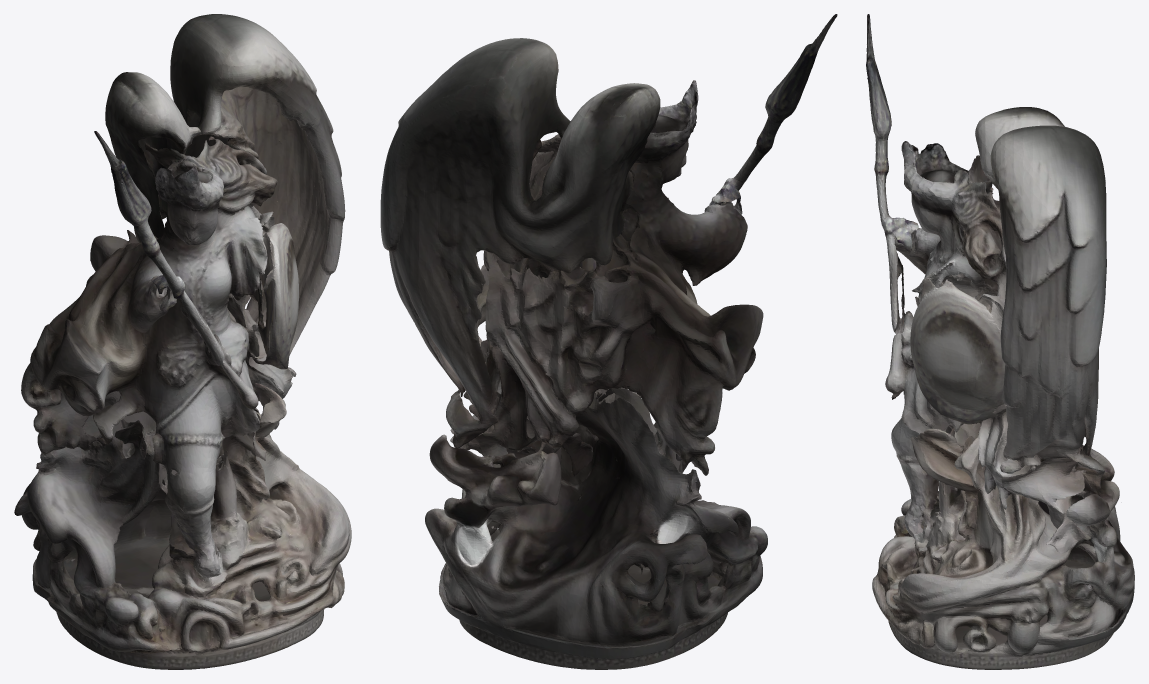
3 renders of one model, left to right at view 1: azimuth 30°, elevation 25°; view 2: azimuth 150°, elevation 25°; view 3: azimuth 270°, elevation 25°, orthographic. The views are drawn at different scales.
Visible parts, largest first — view 1: 0, 1, 2, 3, 4; view 2: 0, 2, 1, 4; view 3: 0, 2, 1, 3, 4.
Part boxes in pixels (x1=…): 0: x1=14, y1=383, x2=351, y2=669; 1: x1=21, y1=136, x2=292, y2=577; 2: x1=105, y1=14, x2=345, y2=376; 3: x1=252, y1=223, x2=298, y2=369; 4: x1=94, y1=131, x2=224, y2=365; 0: x1=425, y1=387, x2=767, y2=669; 2: x1=380, y1=38, x2=660, y2=448; 1: x1=450, y1=80, x2=763, y2=476; 4: x1=683, y1=14, x2=837, y2=270; 0: x1=872, y1=422, x2=1134, y2=669; 2: x1=975, y1=107, x2=1106, y2=490; 1: x1=885, y1=141, x2=1090, y2=553; 3: x1=910, y1=278, x2=1005, y2=424; 4: x1=866, y1=14, x2=918, y2=333.
Bounding box in the file's own units: 0.5825 × 0.9587 × 0.4404.
Materials: 5 (5 with a texture image).
